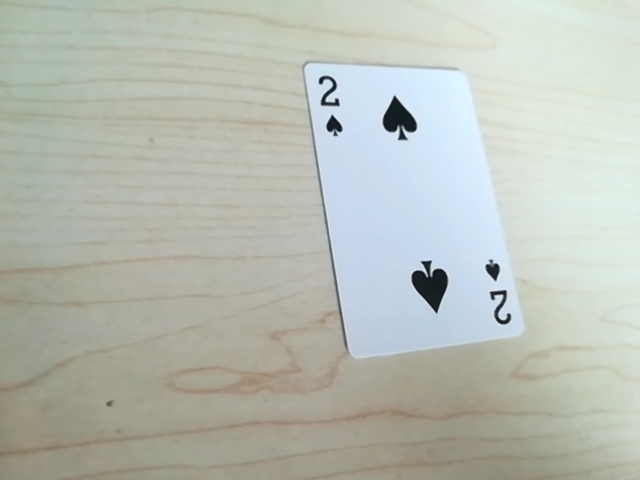ht 2: (307, 63, 350, 147), (480, 252, 514, 333)
